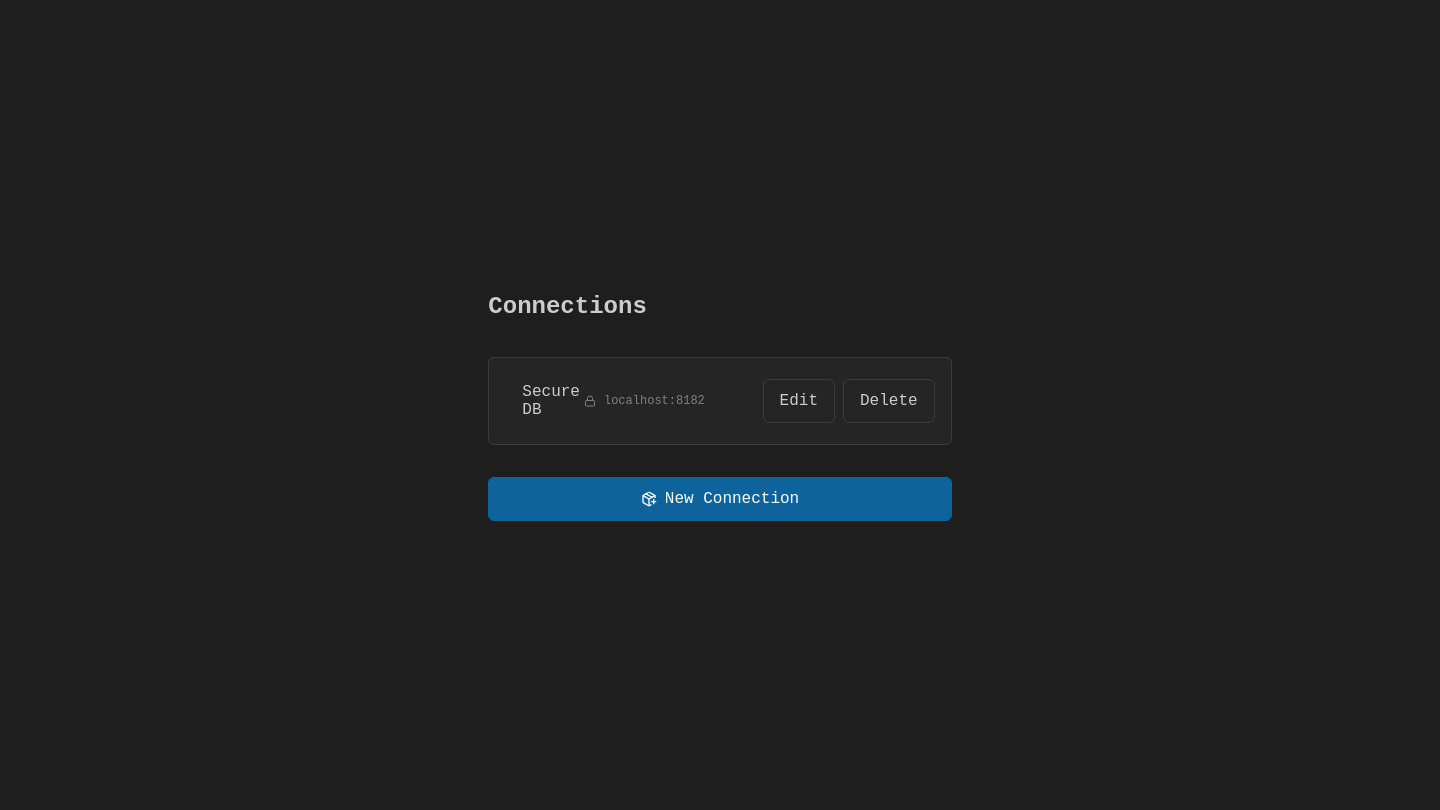
ConnectionsPanel › shows error in PIN modal when wrong PIN is entered
The image size is (1440, 810).
Note: Click secure connection
Click the button "Secure DB localhost:8182".
click(628, 401)  # box x1=505 y1=370 x2=751 y2=432
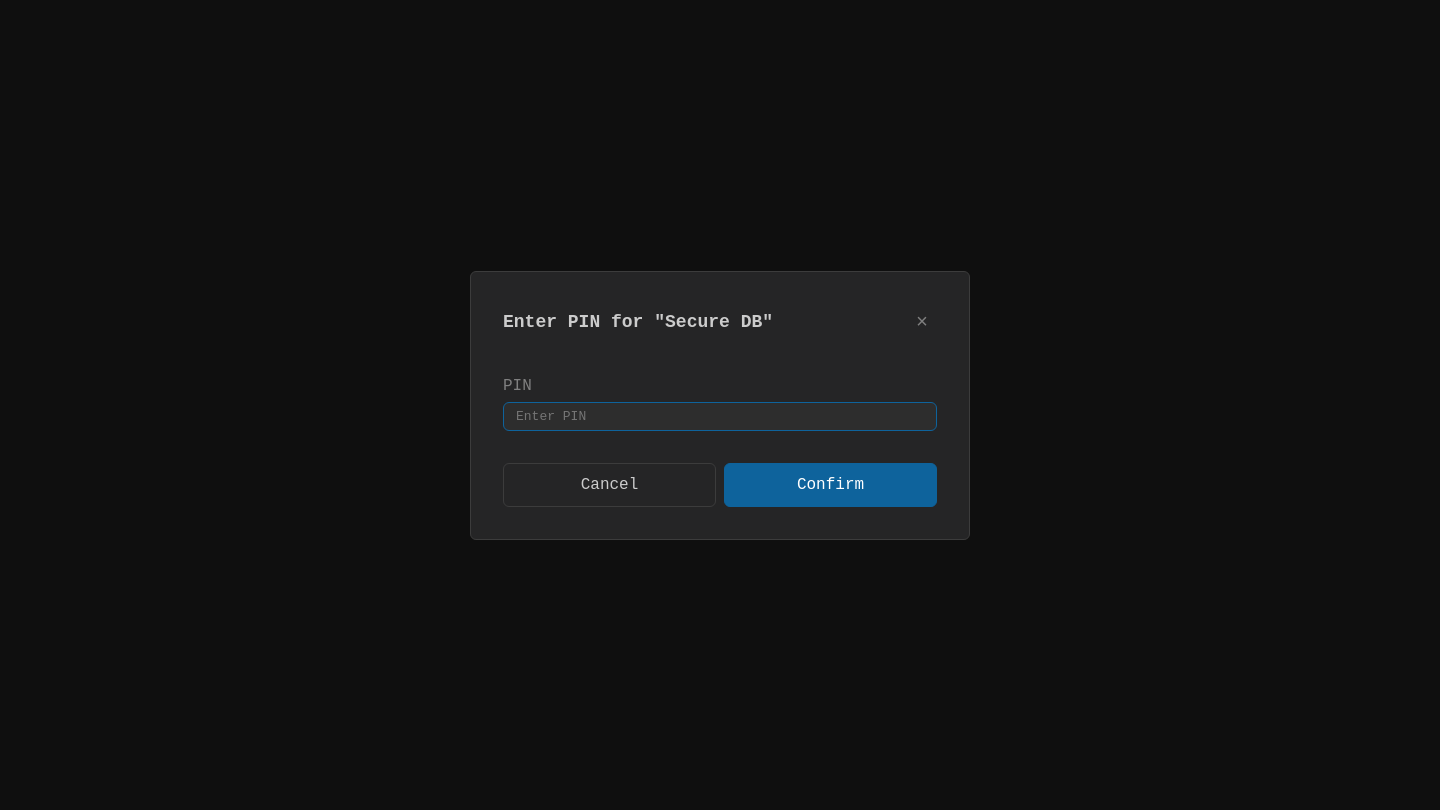
Note: Enter wrong PIN
Type "9999" into the password field labelled "PIN".
click(720, 416); type("9999")  # box x1=503 y1=402 x2=937 y2=430
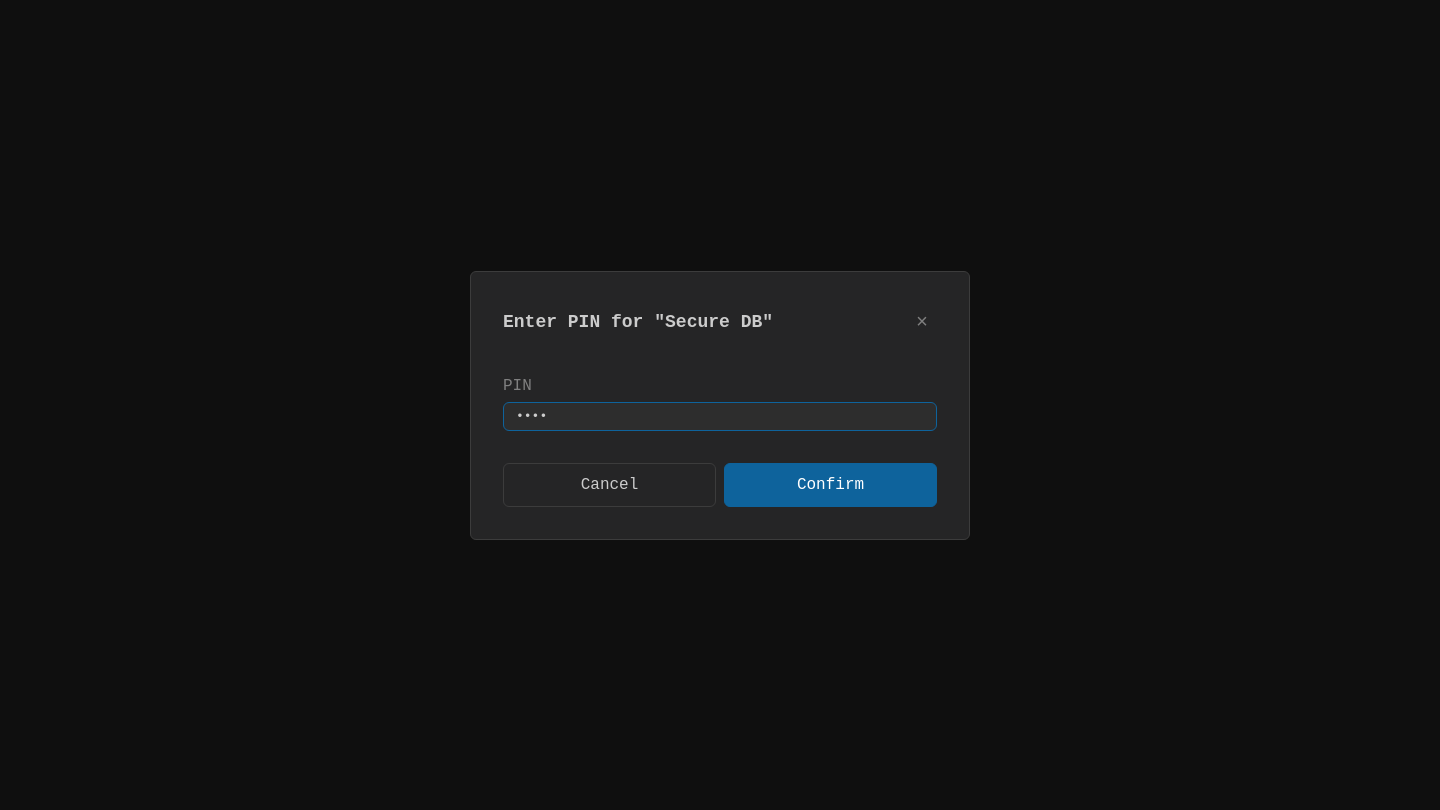
Click the button "Confirm".
click(830, 484)  # box x1=724 y1=462 x2=937 y2=506
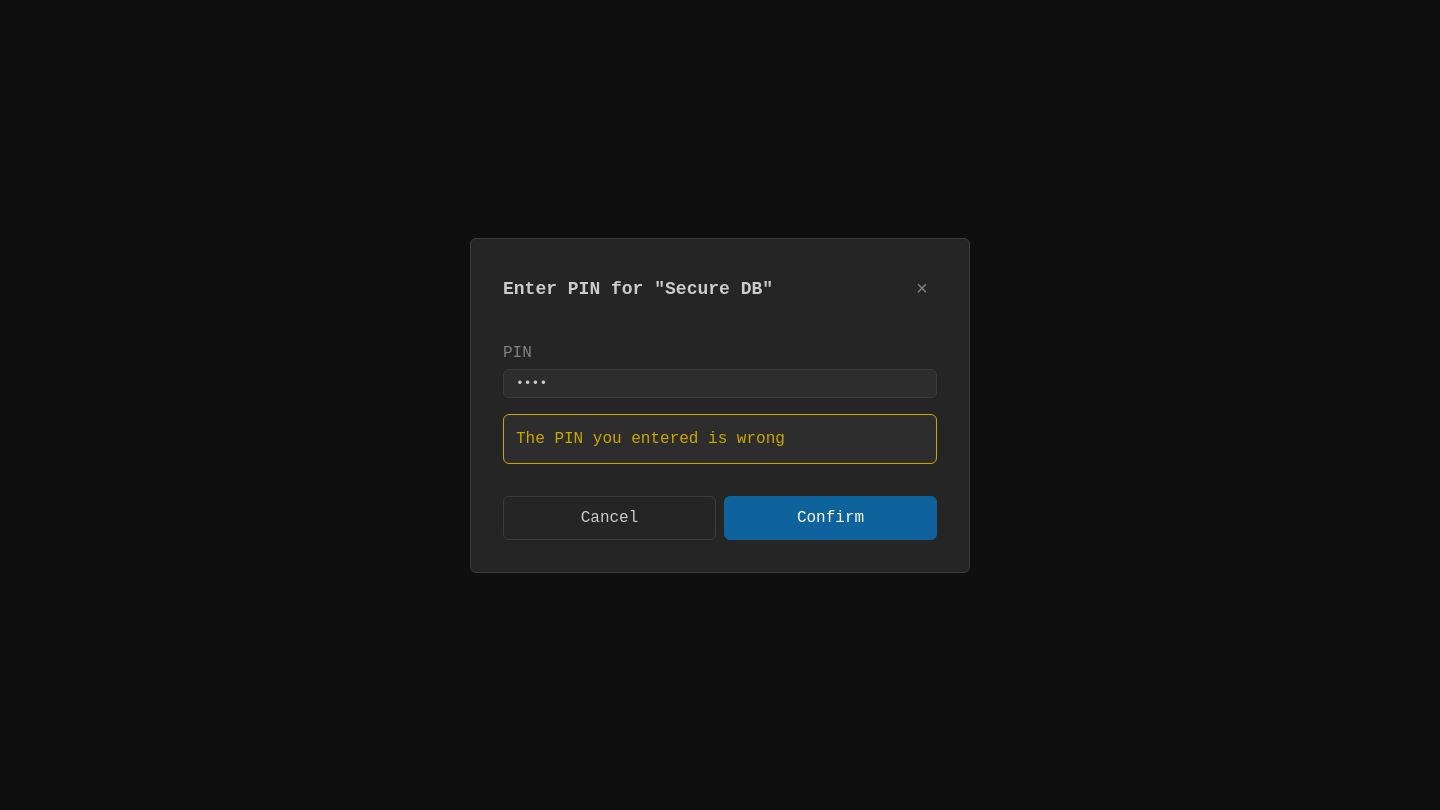
Expected: the text "The PIN you entered is wrong" is shown, x1=503 y1=414 x2=937 y2=464
